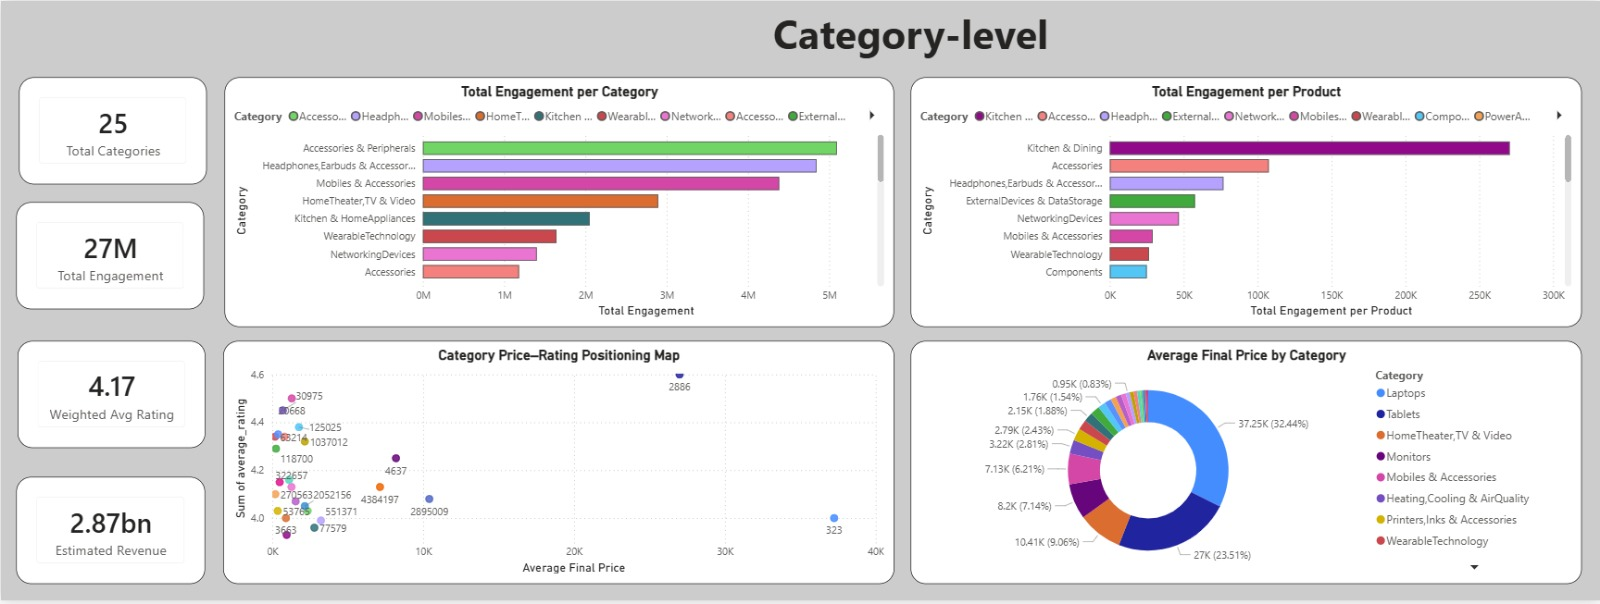

Layout of this report page (visuals, bound fields, positions):
{"tool":"powerbi","page":{"name":"Page 1","canvas":[1920,720],"ordinal":0},"visuals":[{"type":"barChart","title":"Total Engagement per Category ","fields":{"Y":["category_table.Total Engagement"],"Category":["category_table.Category"],"Series":["category_table.Category"]},"box":[268.3,91.7,803.3,300],"z":0},{"type":"cardVisual","fields":{"Data":["category_table.Total Categories"]},"box":[21.7,91.7,225,128.3],"z":1000},{"type":"cardVisual","fields":{"Data":["product_table.Weighted Avg Rating"]},"box":[20,408.3,225,128.3],"z":2000},{"type":"cardVisual","fields":{"Data":["category_table.Total Engagement"]},"box":[18.3,241.7,225,128.3],"z":3000},{"type":"cardVisual","fields":{"Data":["category_table.Estimated Revenue"]},"box":[18.3,571.7,226.7,128.3],"z":4000},{"type":"barChart","title":"Total Engagement per Product ","fields":{"Y":["category_table.Customers Engagement per Product"],"Category":["category_table.Category"],"Series":["category_table.Category"]},"box":[1091.7,91.7,805,300],"z":5000},{"type":"scatterChart","title":"Category Price–Rating Positioning Map","fields":{"Category":["category_table.total_engagement"],"Y":["Sum(category_table.average_rating)"],"X":["category_table.Average Final Price"]},"box":[266.7,408.3,805,291.7],"z":6000},{"type":"donutChart","fields":{"Category":["category_table.Category"],"Y":["category_table.Average Final Price"]},"box":[1091.7,408.3,805,291.7],"z":7000},{"type":"textbox","box":[921.7,0,423.3,75],"z":8000}]}

Visuals, with their boxes in screenshot pixels (x1, y1, x2, y2), scaled from the page's 1920x720 canvas onto the 1600x604 screenshot:
"Total Engagement per Category " barChart: region(224, 77, 893, 329)
cardVisual - category_table.Total Categories: region(18, 77, 206, 185)
cardVisual - product_table.Weighted Avg Rating: region(17, 343, 204, 450)
cardVisual - category_table.Total Engagement: region(15, 203, 203, 310)
cardVisual - category_table.Estimated Revenue: region(15, 480, 204, 587)
"Total Engagement per Product " barChart: region(910, 77, 1581, 329)
"Category Price–Rating Positioning Map" scatterChart: region(222, 343, 893, 587)
donutChart - category_table.Category x category_table.Average Final Price: region(910, 343, 1581, 587)
textbox: region(768, 0, 1121, 63)
